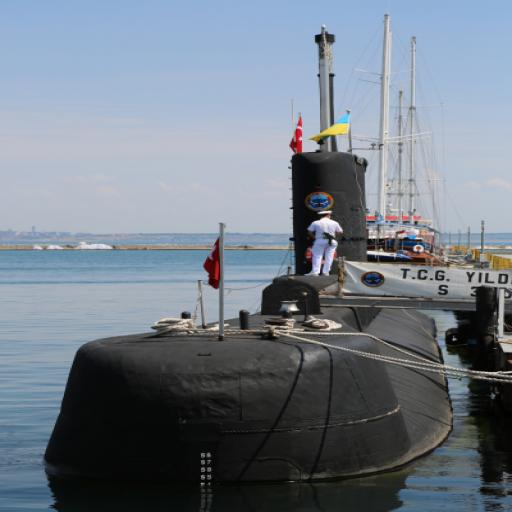submarine: (34, 2, 462, 476)
